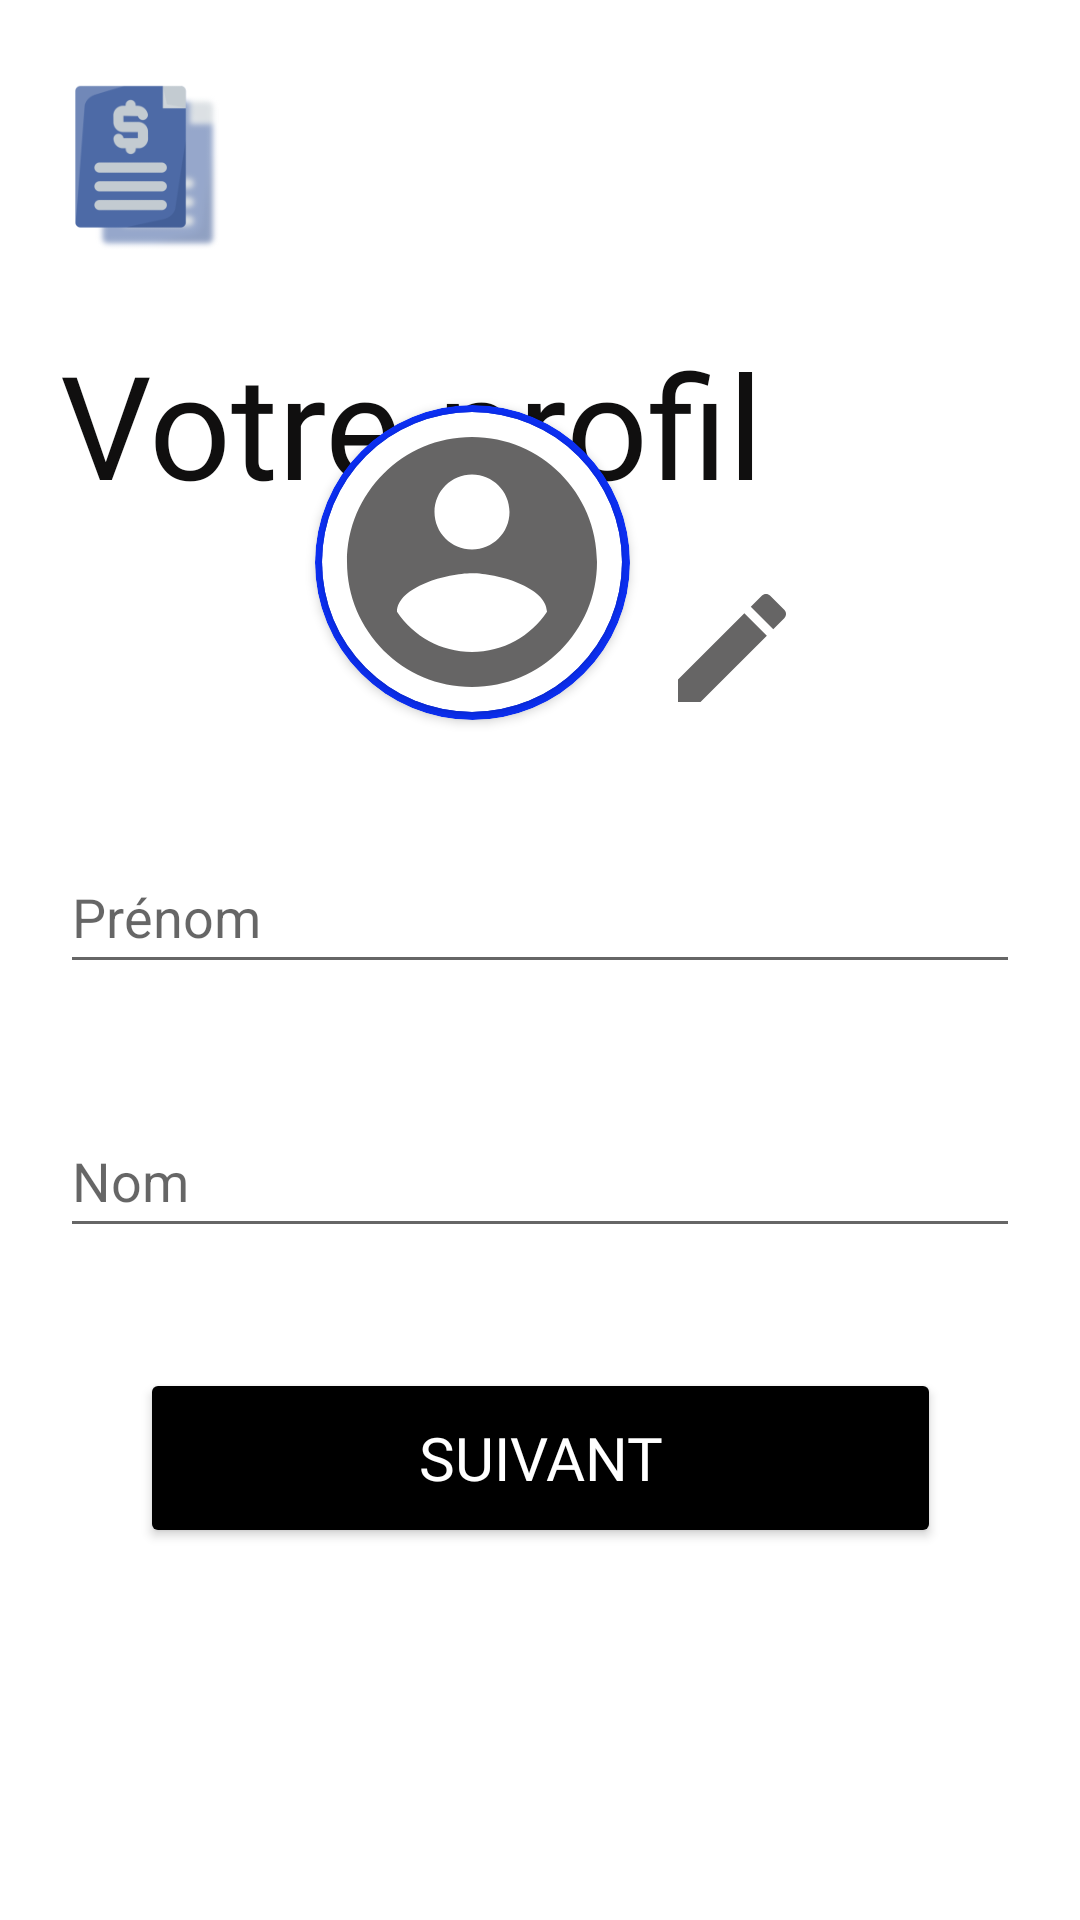

Screen size 1080px×1920px. Icon name, then its center in pixels as (x=x, y=y):
lambda profile: (x=472, y=562)
modifier image de profil: (x=732, y=648)
